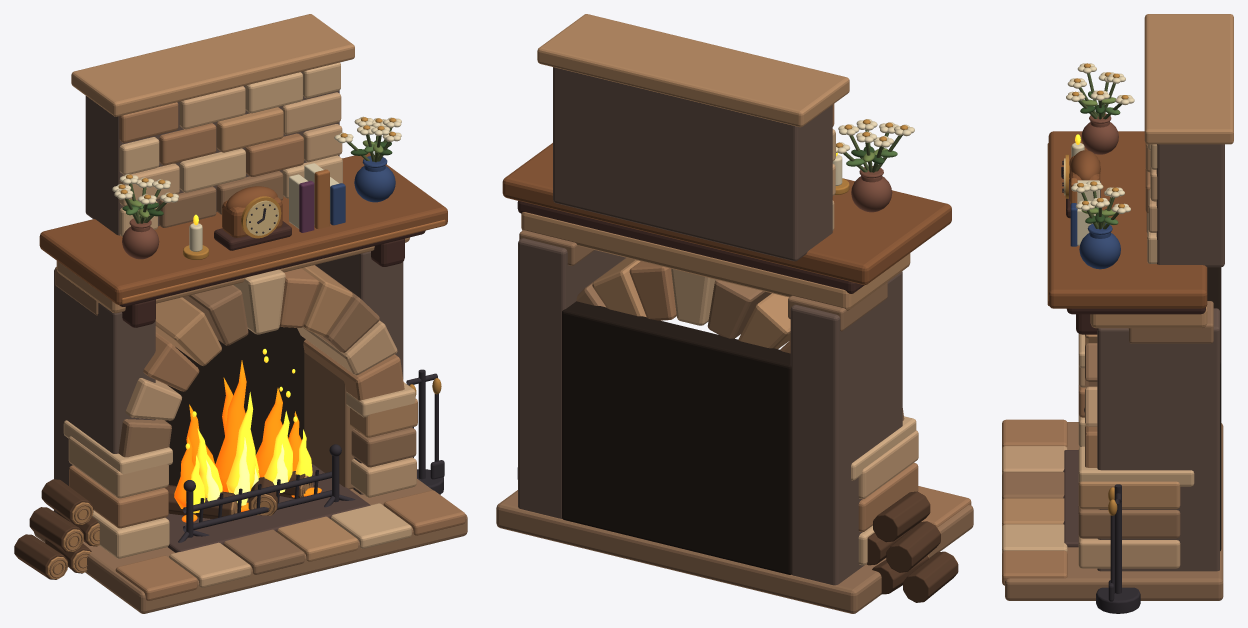
File: kitchen-hearth.glb
3 renders of one model, left to right at view 1: azimuth 30°, elevation 25°; view 2: azimuth 150°, elevation 25°; view 3: azimuth 270°, elevation 25°, orthographic. The views are drawn at different scales.
Visible parts, largest first — view 1: kitchen_hearth_pivot_Mesh, Hearth_flames.001_Mesh; view 2: kitchen_hearth_pivot_Mesh; view 3: kitchen_hearth_pivot_Mesh.
Part boxes in pixels (bbox=[...]): kitchen_hearth_pivot_Mesh: bbox=[14, 14, 467, 613]; Hearth_flames.001_Mesh: bbox=[174, 349, 312, 513]; kitchen_hearth_pivot_Mesh: bbox=[496, 14, 973, 613]; kitchen_hearth_pivot_Mesh: bbox=[1002, 14, 1233, 613].
Size of the model in its own units: 3.3 by 3.56 by 1.66.
